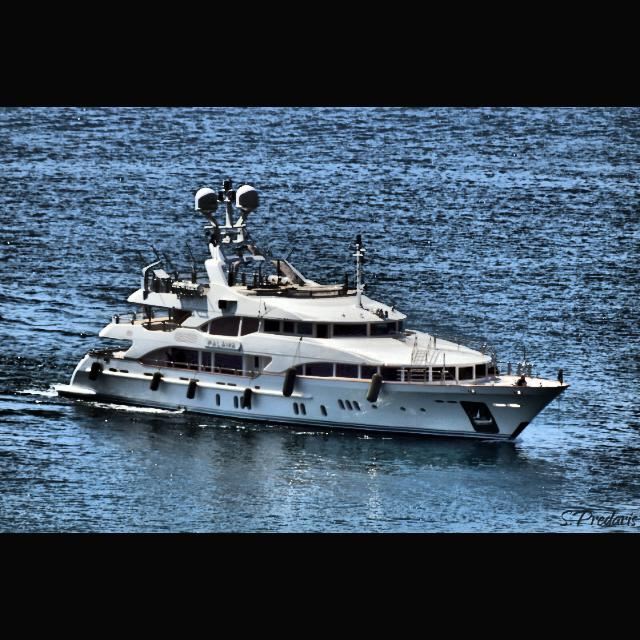yacht: (53, 178, 571, 446)
